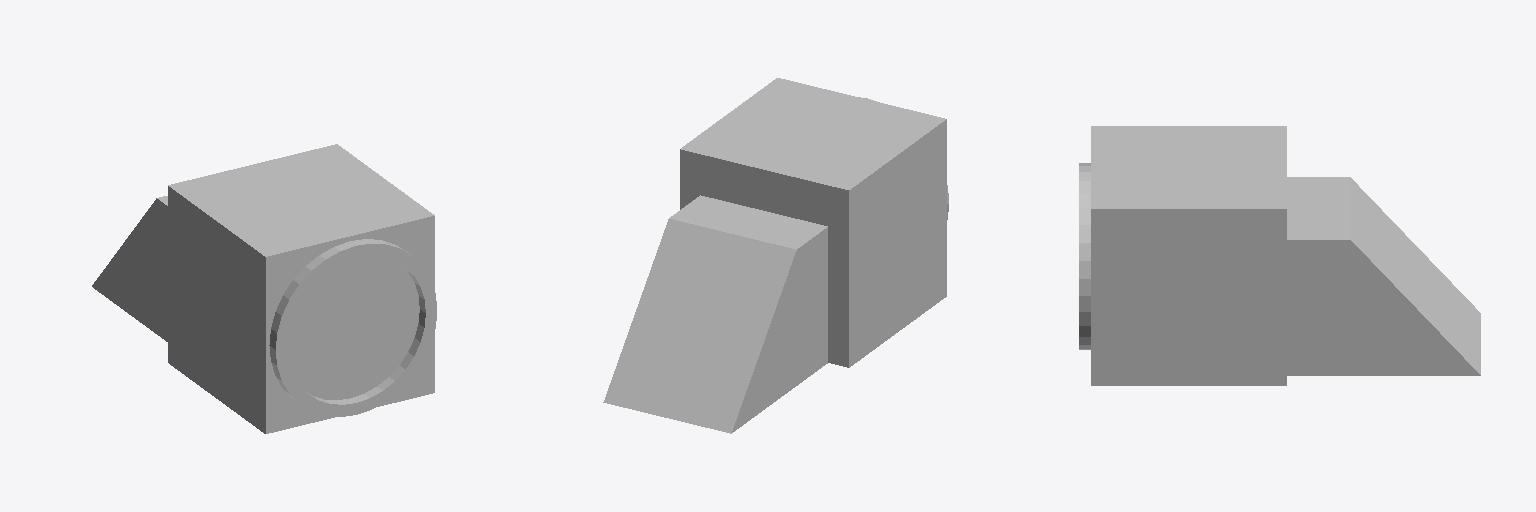
Rendered from vent.obj.
3 views of the same model, side by side, from view 1: azimuth 30°, elevation 25°; view 2: azimuth 150°, elevation 25°; view 3: azimuth 270°, elevation 25° (orthographic).
Parts seen in each view (by area): view 1: Cube.003; view 2: Cube.003; view 3: Cube.003.
Boxes of the visible parts, x1,y1,x2,y2 form: Cube.003: [92, 144, 436, 433]; Cube.003: [603, 78, 948, 433]; Cube.003: [1079, 126, 1480, 385].
Size of the model in its own units: 0.6859 by 0.6859 by 1.41.